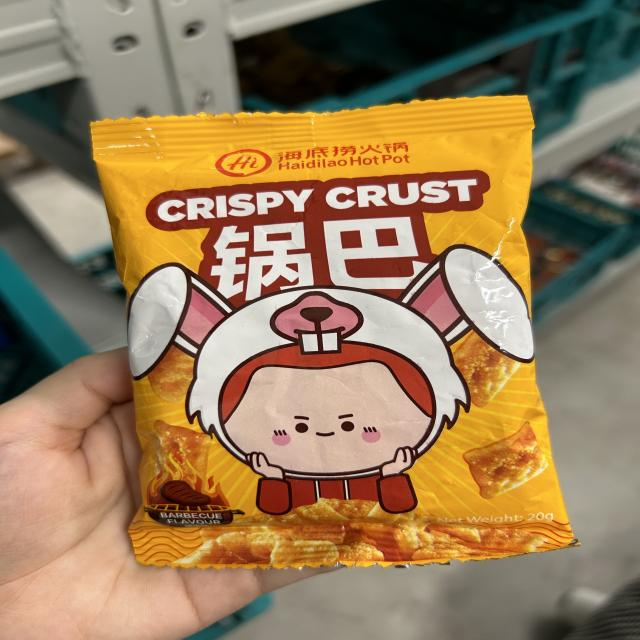object_name: (117, 127, 548, 551)
